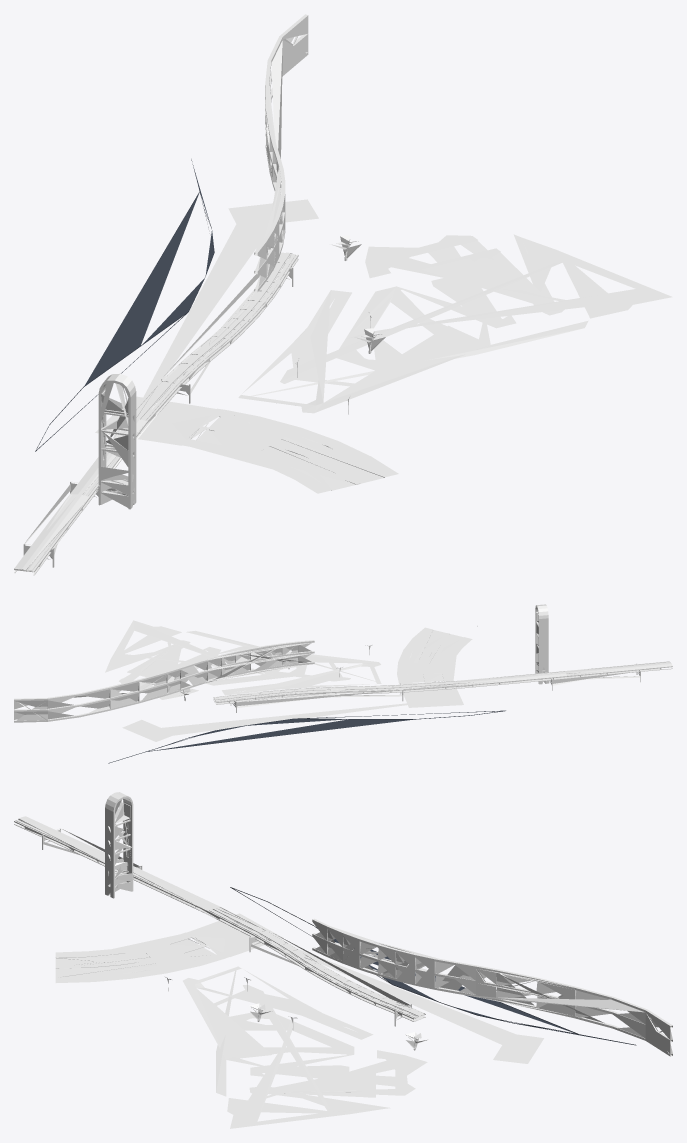
File: street_island2_02.glb
3 views of the same model, one above another, from view 1: azimuth 30°, elevation 25°; view 2: azimuth 150°, elevation 25°; view 3: azimuth 270°, elevation 25° (orthographic). The views are drawn at different scales.
Parts seen in each view (by area): view 1: seg_432, seg_404, seg_389, seg_953, seg_1012, seg_964, seg_767, seg_821, seg_809, seg_804; view 2: seg_953, seg_432, seg_389, seg_404, seg_1012, seg_767, seg_821, seg_804, seg_809, seg_964, seg_754, seg_775 (+1 smaller); view 3: seg_432, seg_953, seg_404, seg_389, seg_964, seg_767, seg_821, seg_809, seg_1012, seg_804, seg_754.
Boxes of the visible parts, x1,y1,x2,y2 form: seg_432: [238, 234, 672, 413]; seg_404: [190, 410, 398, 493]; seg_389: [95, 199, 318, 446]; seg_953: [254, 14, 308, 292]; seg_1012: [35, 159, 214, 451]; seg_964: [98, 373, 136, 509]; seg_767: [14, 381, 180, 572]; seg_821: [164, 252, 298, 388]; seg_809: [161, 252, 298, 385]; seg_804: [14, 381, 180, 575]; seg_953: [14, 640, 314, 722]; seg_432: [105, 620, 381, 699]; seg_389: [122, 680, 463, 741]; seg_404: [397, 627, 472, 683]; seg_1012: [108, 710, 505, 763]; seg_767: [404, 661, 672, 690]; seg_821: [213, 685, 404, 704]; seg_804: [403, 662, 672, 692]; seg_809: [213, 684, 404, 702]; seg_964: [535, 604, 548, 684]; seg_754: [230, 682, 403, 712]; seg_775: [229, 691, 402, 707]; seg_432: [183, 966, 427, 1128]; seg_953: [312, 918, 672, 1056]; seg_404: [55, 934, 223, 982]; seg_389: [180, 913, 543, 1063]; seg_964: [105, 792, 133, 898]; seg_767: [14, 816, 266, 935]; seg_821: [255, 931, 425, 1021]; seg_809: [254, 930, 425, 1019]; seg_1012: [230, 887, 636, 1045]; seg_804: [14, 819, 264, 937]; seg_754: [249, 931, 411, 1026].
Bounding box in the file's own units: 389 × 59.48 × 362.
